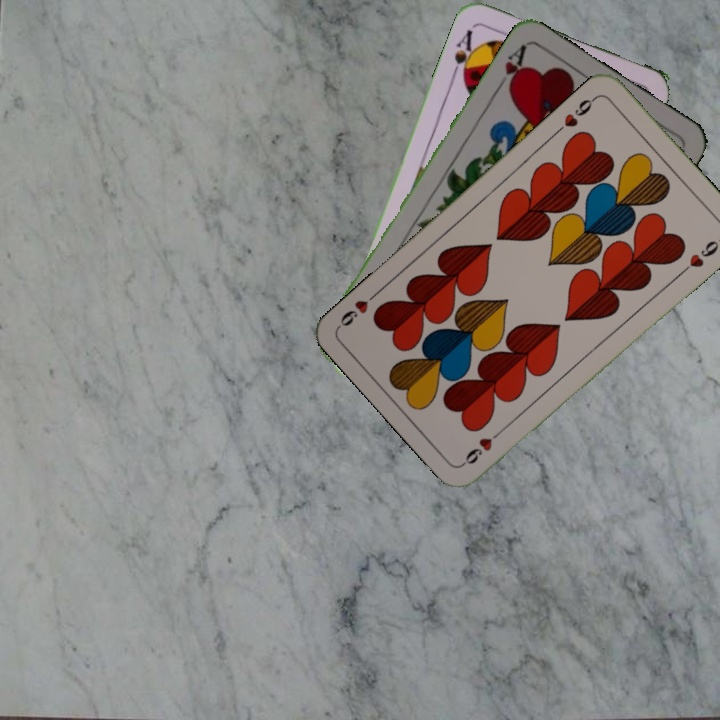H9: (459, 424, 508, 468), (552, 92, 600, 136)
HA: (491, 41, 530, 94)
SA: (447, 25, 481, 84)
